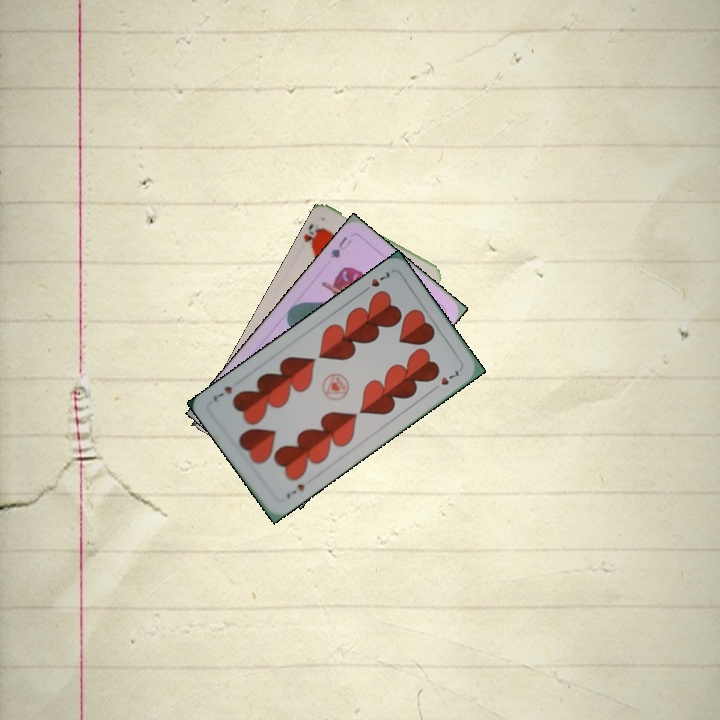GU: (326, 232, 354, 261)
H7: (358, 267, 394, 295), (283, 480, 307, 501)
HO: (300, 220, 327, 253)
